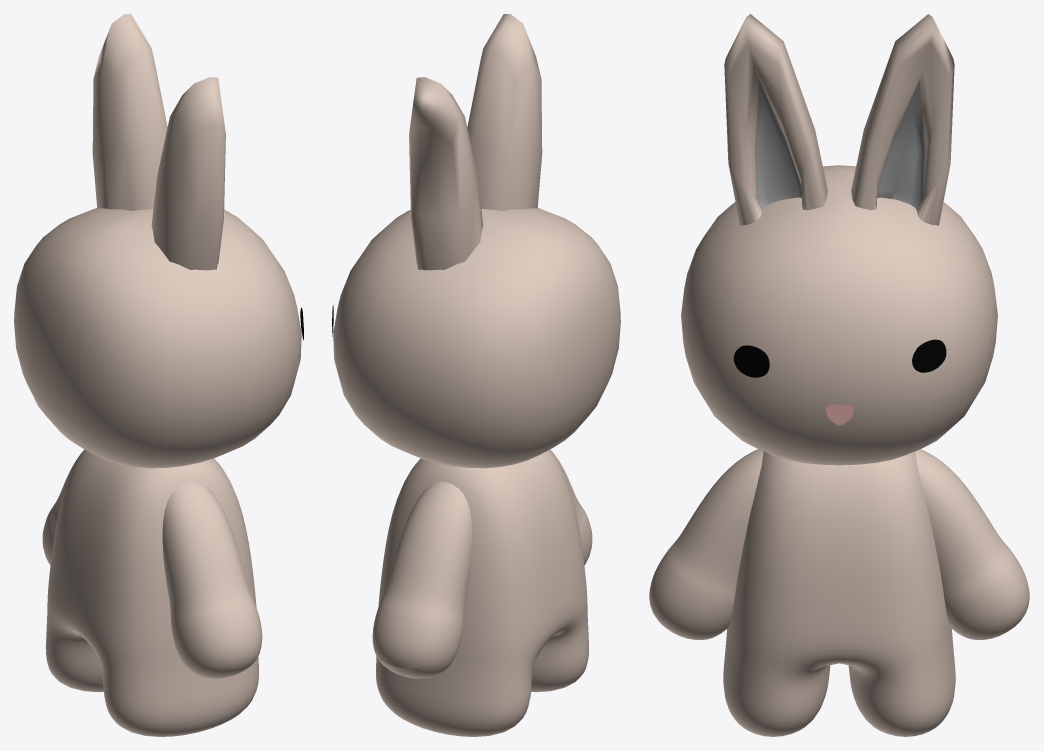
The model's file is doll_rabbit.fbx.
3 renders of one model, left to right at view 1: azimuth 30°, elevation 25°; view 2: azimuth 150°, elevation 25°; view 3: azimuth 270°, elevation 25°, orthographic. The views are drawn at different scales.
Parts seen in each view (by area): view 1: head.001, body.003, ear_left.001; view 2: head.001, body.003, ear_left.001; view 3: body.003, head.001, ear_left.001, eye_left.004, eye_right002.002.
Boxes of the visible parts, x1,y1,x2,y2 form: head.001: (14,208,301,468); body.003: (42,449,262,736); ear_left.001: (92,14,225,270); head.001: (333,208,620,468); body.003: (372,449,592,736); ear_left.001: (409,14,542,270); body.003: (649,449,1029,736); head.001: (681,165,997,465); ear_left.001: (724,14,954,225); eye_left.004: (733,345,769,377); eye_right002.002: (912,339,946,372).
Size of the model in its own units: 163 by 431 by 209.
